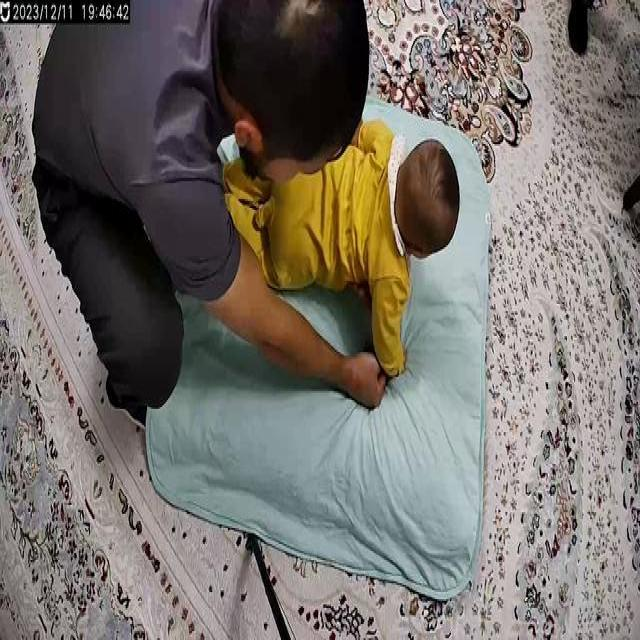baby: (215, 112, 460, 380)
